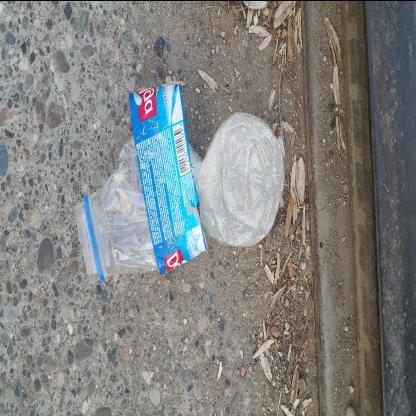plastik: (131, 75, 335, 287)
